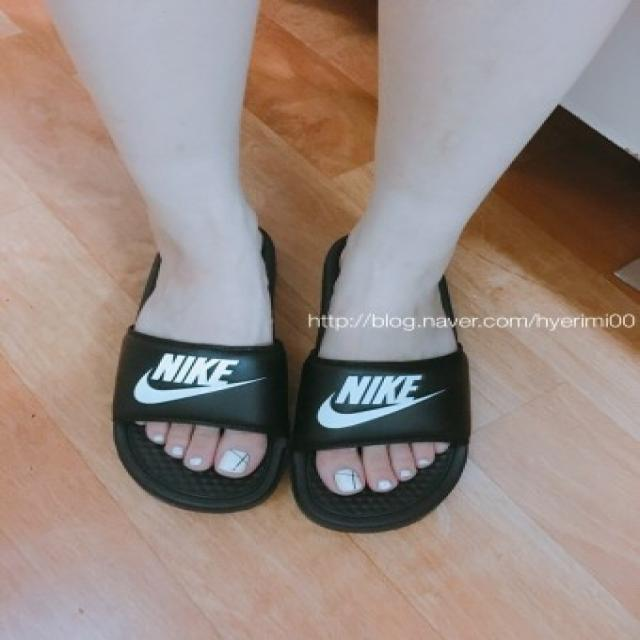no-boots: (312, 223, 500, 572), (105, 226, 290, 540)
